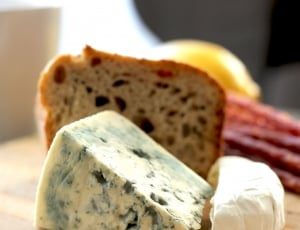slice of bread: (42, 53, 223, 154)
